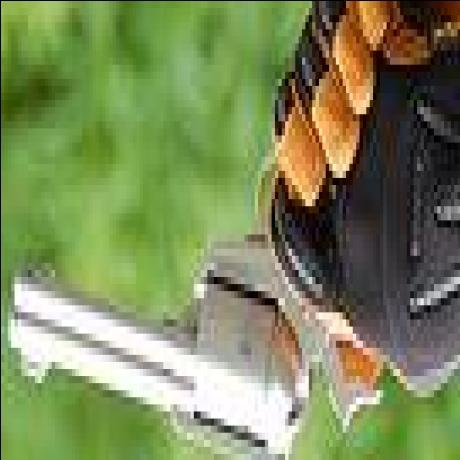weapon: (11, 206, 374, 456)
